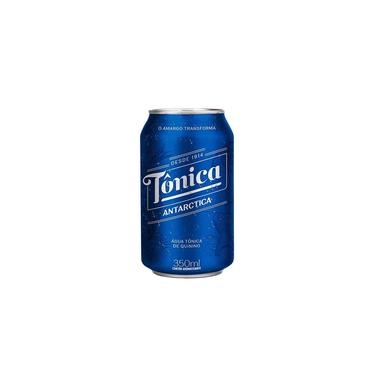tonica: (132, 95, 254, 291)
